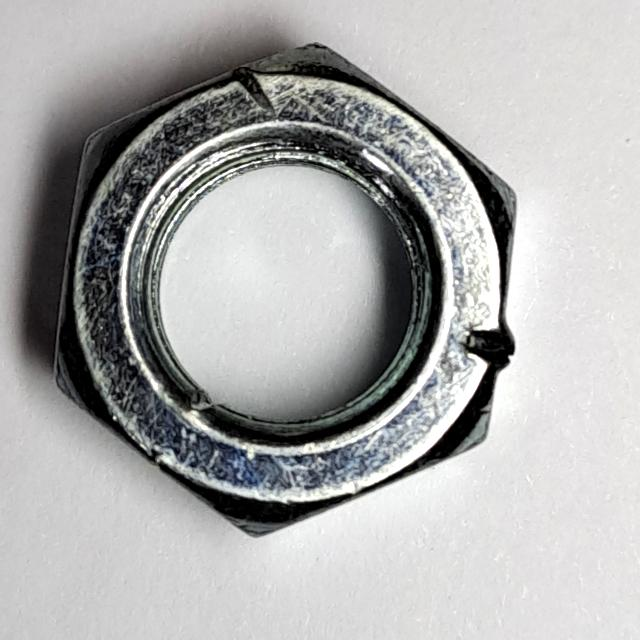Scratches: (44, 27, 533, 553)
